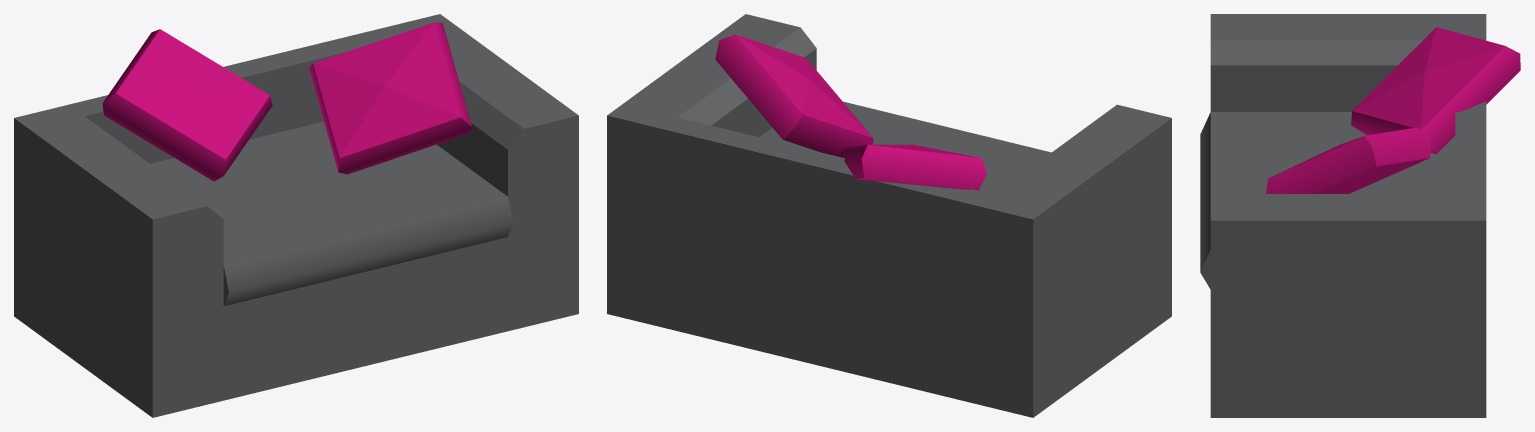
The model's file is couch.fbx.
3 renders of one model, left to right at view 1: azimuth 30°, elevation 25°; view 2: azimuth 150°, elevation 25°; view 3: azimuth 270°, elevation 25°, orthographic.
Visible parts, largest first — view 1: pCube3, pCube2, pCube1, pCube4, pCube7, pCube6, pCube5; view 2: pCube5, pCube3, pCube7, pCube4, pCube2, pCube6; view 3: pCube4, pCube3, pCube2, pCube6, pCube5, pCube7.
Part boxes in pixels (x1=…): pCube3: x1=29, y1=116, x2=223, y2=417; pCube2: x1=150, y1=121, x2=512, y2=306; pCube1: x1=223, y1=237, x2=507, y2=400; pCube4: x1=437, y1=25, x2=578, y2=331; pCube7: x1=309, y1=22, x2=471, y2=174; pCube6: x1=102, y1=29, x2=272, y2=181; pCube5: x1=14, y1=14, x2=455, y2=327; pCube5: x1=607, y1=104, x2=1048, y2=417; pCube3: x1=994, y1=104, x2=1171, y2=405; pCube7: x1=715, y1=34, x2=873, y2=156; pCube4: x1=623, y1=14, x2=816, y2=137; pCube2: x1=759, y1=101, x2=1051, y2=194; pCube6: x1=838, y1=144, x2=987, y2=190; pCube4: x1=1210, y1=194, x2=1455, y2=417; pCube3: x1=1210, y1=14, x2=1455, y2=111; pCube2: x1=1200, y1=112, x2=1455, y2=289; pCube6: x1=1351, y1=27, x2=1520, y2=154; pCube5: x1=1455, y1=14, x2=1486, y2=417; pCube7: x1=1266, y1=127, x2=1431, y2=193.
Size of the model in its own units: 6 by 3.38 by 3.93.
